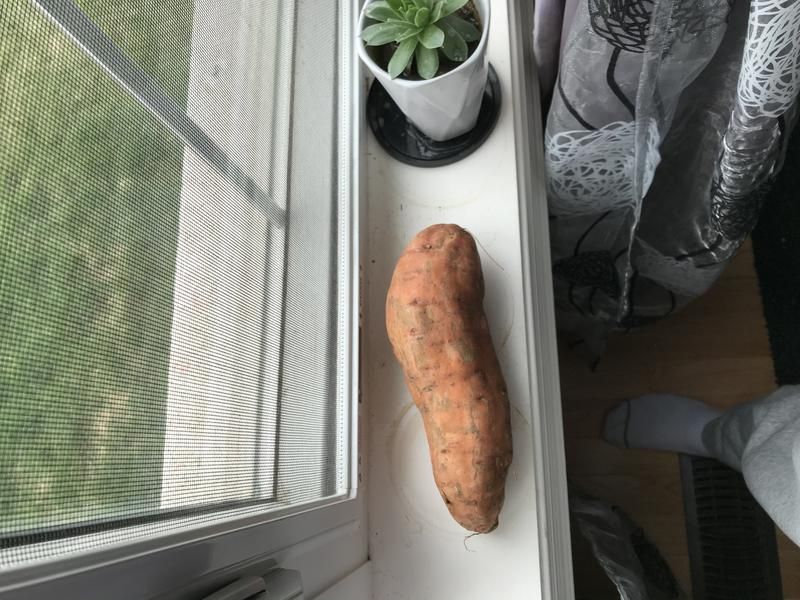sweet_potato: (374, 211, 526, 543)
